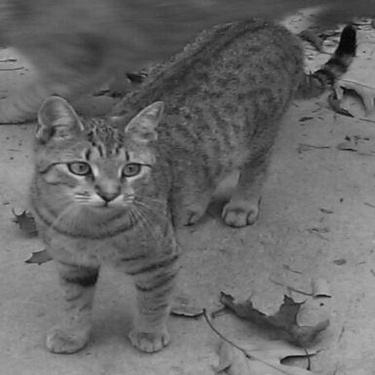cat: (28, 18, 357, 354)
